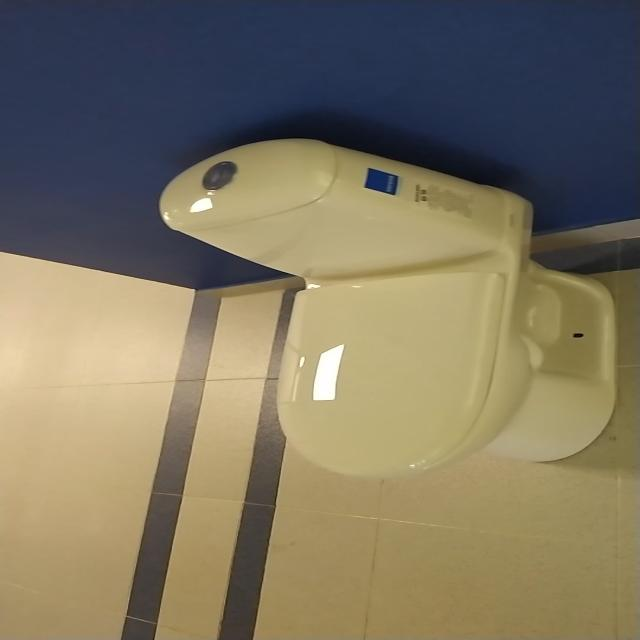toilet: (158, 137, 617, 479)
